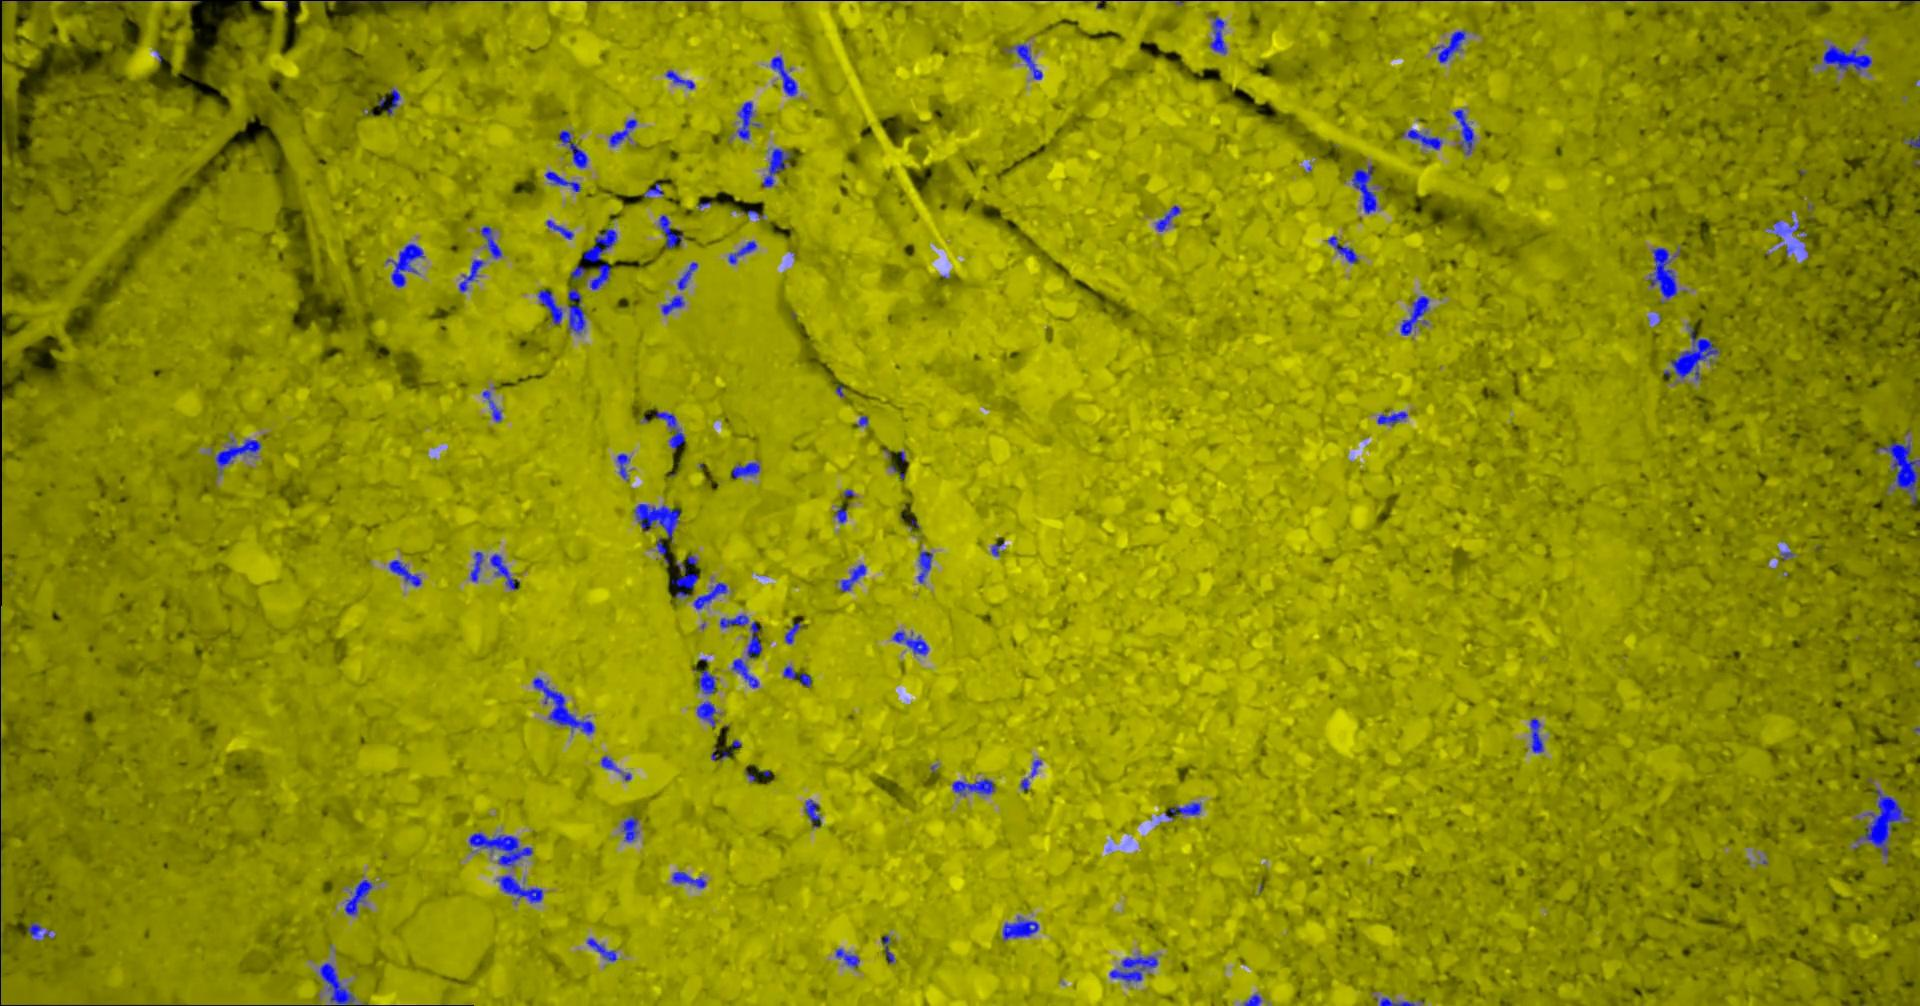ant: (532, 677, 594, 734), (1663, 324, 1719, 379), (1876, 441, 1919, 503), (469, 832, 532, 868), (582, 227, 616, 290), (719, 614, 761, 658), (632, 503, 681, 541), (385, 243, 424, 287), (319, 962, 354, 1005), (215, 439, 260, 473), (1648, 246, 1676, 298), (1823, 44, 1870, 72), (1351, 165, 1377, 213), (1109, 955, 1157, 981), (1008, 43, 1043, 79), (497, 875, 542, 902), (1399, 295, 1429, 335), (489, 553, 519, 589), (557, 130, 587, 168), (655, 410, 684, 448), (770, 56, 797, 95), (1431, 30, 1465, 62), (761, 149, 790, 185), (1451, 109, 1474, 154), (670, 561, 698, 597), (344, 879, 372, 915), (891, 630, 928, 655), (389, 559, 422, 586), (693, 582, 726, 608), (537, 290, 563, 324), (1002, 915, 1037, 939), (1327, 235, 1357, 263), (737, 102, 759, 138), (568, 287, 585, 334), (658, 213, 682, 248), (731, 658, 758, 687), (1401, 130, 1441, 149), (458, 259, 483, 291), (610, 118, 636, 146), (599, 756, 630, 780), (585, 937, 616, 962), (951, 779, 996, 795), (543, 171, 582, 191), (480, 225, 502, 258), (1209, 15, 1225, 55), (1156, 205, 1180, 231), (841, 564, 865, 591), (728, 240, 756, 263), (676, 260, 697, 290), (783, 666, 811, 687), (1164, 801, 1200, 818), (483, 390, 502, 420), (1768, 220, 1799, 238), (665, 70, 695, 89), (672, 871, 705, 888), (546, 218, 573, 239), (696, 701, 715, 727), (1529, 718, 1543, 752), (917, 551, 932, 582), (804, 799, 820, 827), (662, 295, 684, 314), (836, 948, 858, 967), (1377, 412, 1407, 426), (731, 462, 759, 478), (621, 815, 637, 841), (880, 934, 894, 963), (698, 669, 715, 694), (783, 622, 803, 643), (386, 88, 400, 114), (470, 551, 483, 580), (655, 537, 669, 563), (27, 922, 50, 937), (616, 453, 629, 480), (643, 182, 663, 197), (1379, 997, 1415, 1005), (1903, 133, 1919, 149), (569, 265, 585, 278), (1243, 993, 1261, 1005), (836, 506, 846, 522), (348, 0, 455, 1)
